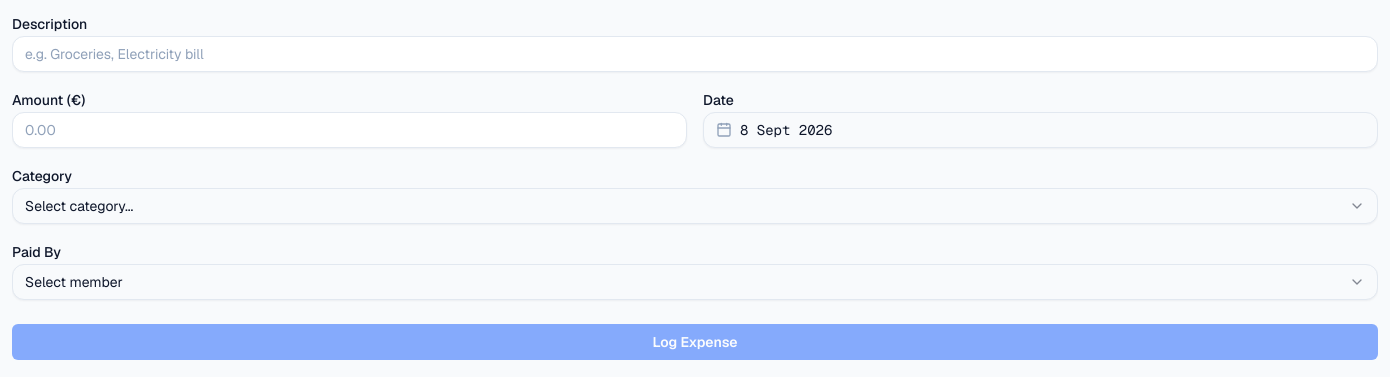
it: ExpenseForm › renders category options with name only — no icon prefix
The image size is (1390, 377).
Click the dropdown labelled "Select category...": click(79, 206) [12, 188, 1378, 224]
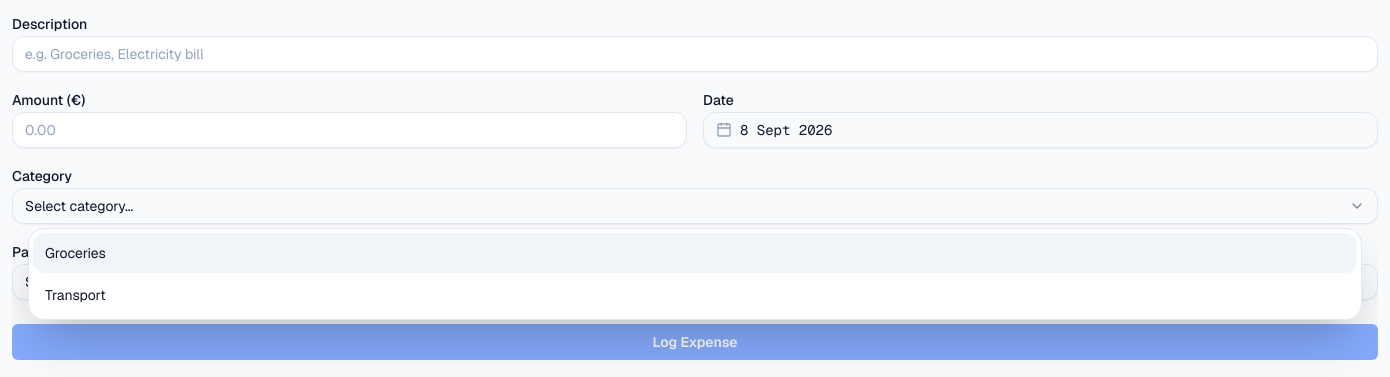
Expected: the option "Groceries" is shown, [33, 233, 1357, 273]
Expected: the option "Transport" is shown, [45, 286, 106, 304]
